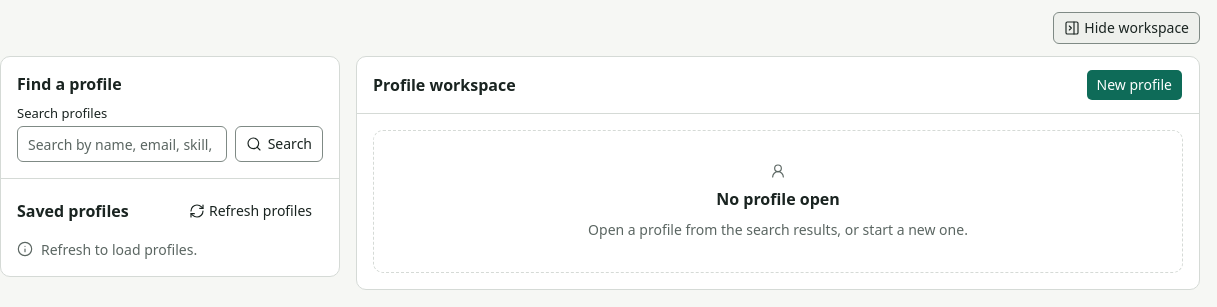
profile list › shows the not-configured copy when the cursor key is missing
Click the button with test id "profileRefreshButton". click: click(250, 211)
box: [178,195,323,227]
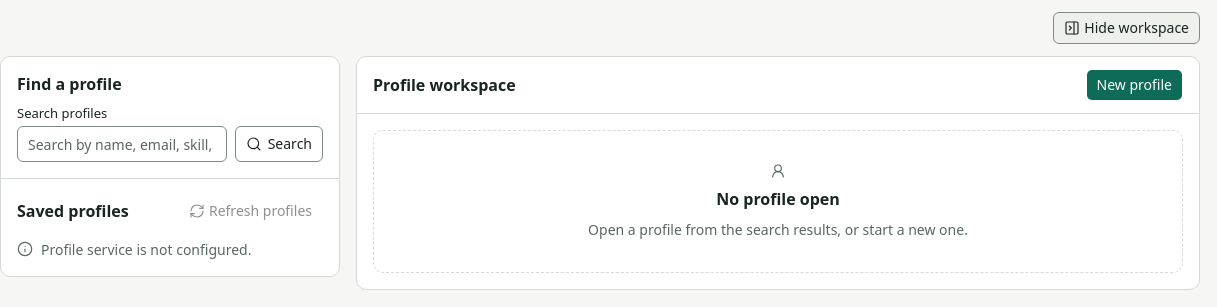
Now the text "Profile service is not configured." is shown, box [41,239,252,260]
Now the button with test id "profileRefreshButton" is disabled, box [178,195,323,227]
